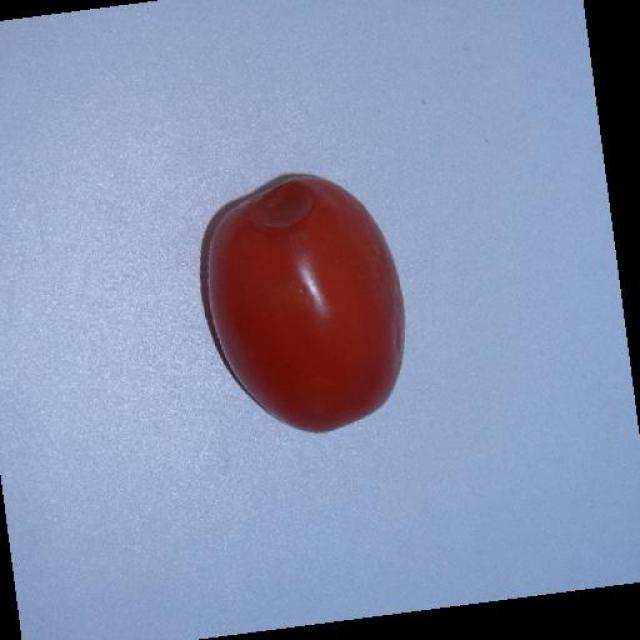Stale_tomato: (237, 183, 372, 340)
